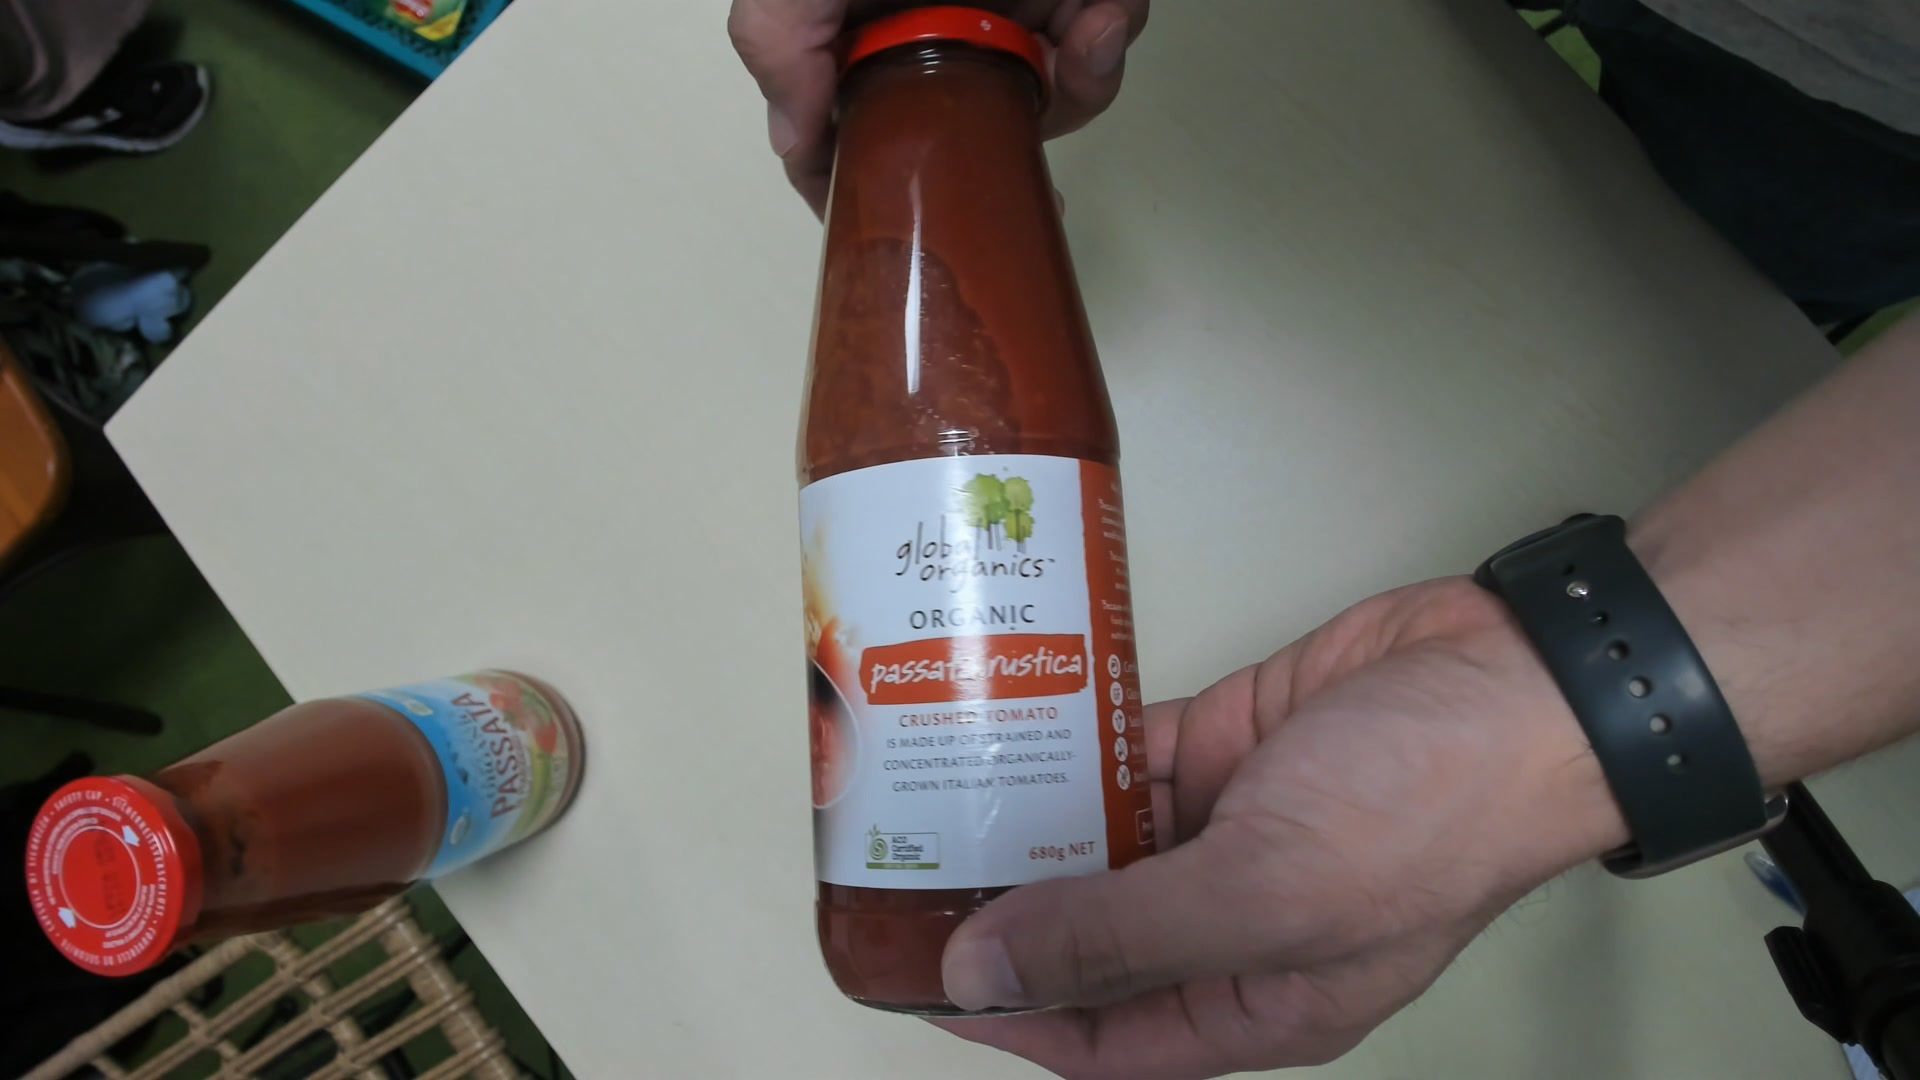PastaSauce_600-699g_NonHalal_NonHealthy: (806, 16, 1163, 1011)
